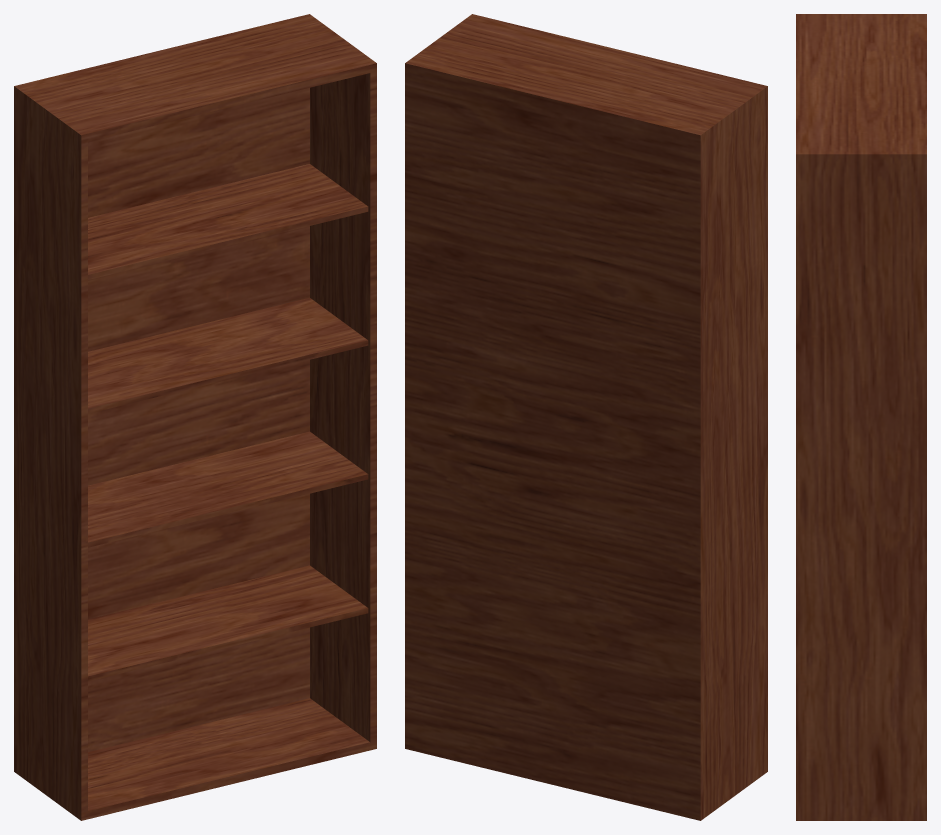
File: book_shelve2.glb
3 views of the same model, side by side, from view 1: azimuth 30°, elevation 25°; view 2: azimuth 150°, elevation 25°; view 3: azimuth 270°, elevation 25° (orthographic). The views are drawn at different scales.
Visible parts, largest first — view 1: hillur_EHH; view 2: hillur_EHH; view 3: hillur_EHH.
Part boxes in pixels (left/top/right/bottom): hillur_EHH: left=14, top=14, right=376, bottom=820; hillur_EHH: left=405, top=14, right=767, bottom=820; hillur_EHH: left=796, top=14, right=926, bottom=820.
Size of the model in its own units: 0.894 by 1.98 by 0.3521.
1 material, 1 textured.
